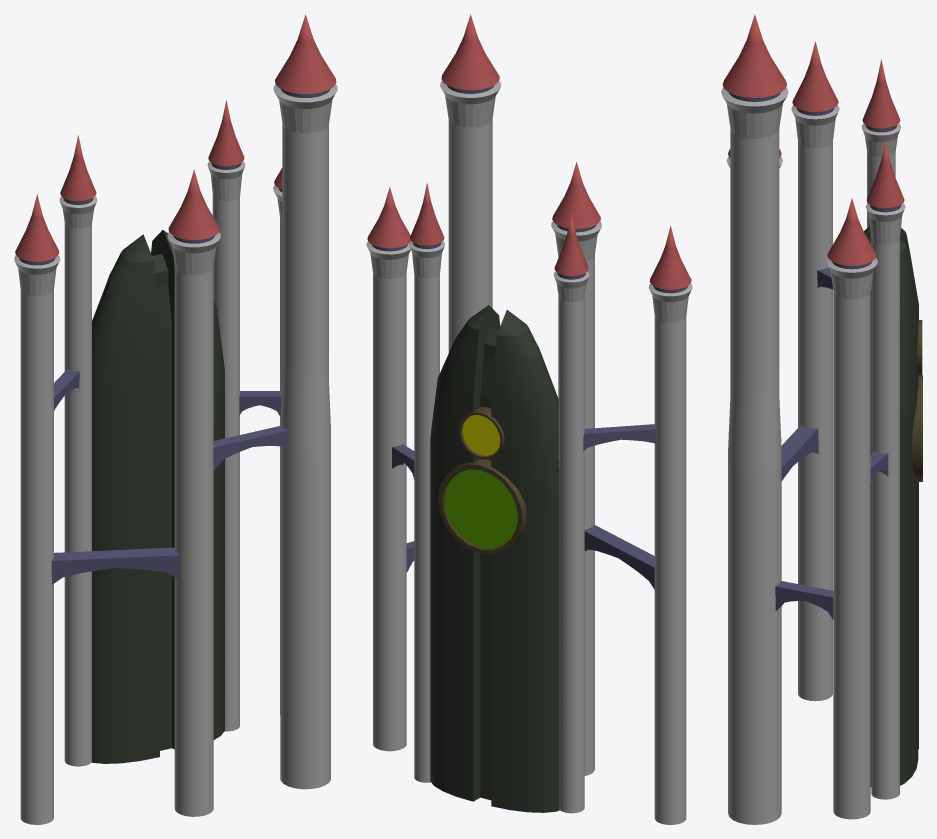
File: CentralKeep.fbx
The picture shows the model from 3 angles, left to right: view 1: azimuth 30°, elevation 25°; view 2: azimuth 150°, elevation 25°; view 3: azimuth 270°, elevation 25°; orthographic projection. The views are drawn at different scales.
Visible parts, largest first — view 1: CentralKeep; view 2: CentralKeep; view 3: CentralKeep.
Part boxes in pixels (x1,y1,x2,y2): CentralKeep: [14, 14, 337, 824]; CentralKeep: [366, 14, 692, 824]; CentralKeep: [721, 14, 922, 824].
Bounding box in the file's own units: 47.88 × 110 × 25.05.
